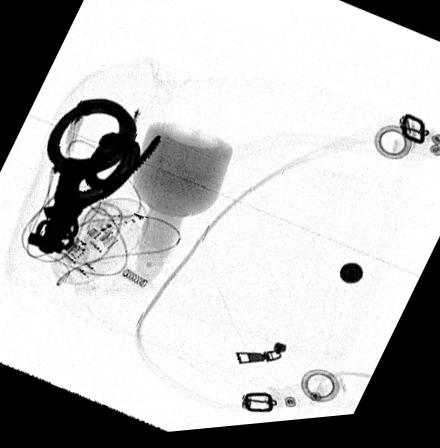HandCuffs: (24, 100, 165, 256)
